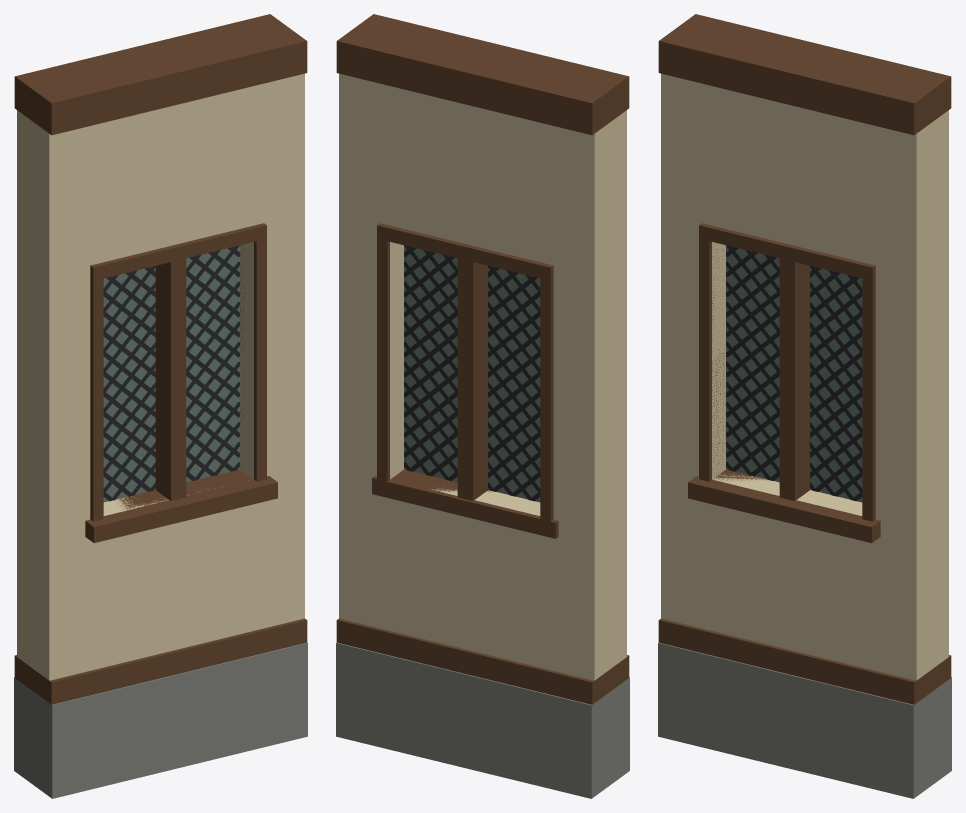
Rendered from WallLeaded.fbx.
3 renders of one model, left to right at view 1: azimuth 30°, elevation 25°; view 2: azimuth 150°, elevation 25°; view 3: azimuth 330°, elevation 25°, orthographic.
Visible parts, largest first — view 1: WallLeaded; view 2: WallLeaded; view 3: WallLeaded.
Part boxes in pixels (x1,y1,x2,y2): WallLeaded: (14, 14, 307, 798); WallLeaded: (336, 14, 629, 798); WallLeaded: (658, 14, 951, 798).
Size of the model in its own units: 1 by 2.6 by 0.3.
